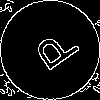P: (25, 25, 82, 79)
